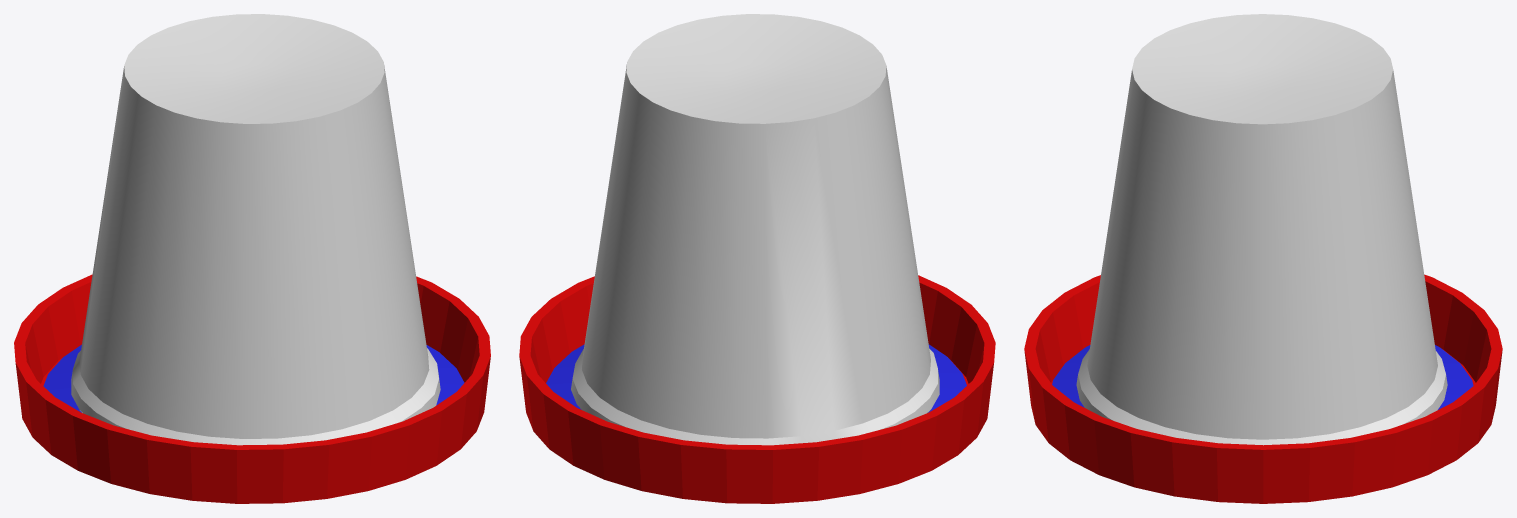
The model's file is Inuman.fbx.
3 views of the same model, side by side, from view 1: azimuth 30°, elevation 25°; view 2: azimuth 150°, elevation 25°; view 3: azimuth 270°, elevation 25° (orthographic).
Visible parts, largest first — view 1: Top, Base, Water; view 2: Top, Base, Water; view 3: Top, Base, Water.
Part boxes in pixels (left/top/right/bottom): Top: left=71, top=14, right=440, bottom=445; Base: left=14, top=274, right=490, bottom=503; Water: left=43, top=344, right=464, bottom=412; Top: left=571, top=14, right=939, bottom=445; Base: left=519, top=275, right=995, bottom=503; Water: left=546, top=344, right=966, bottom=412; Top: left=1076, top=14, right=1447, bottom=445; Base: left=1024, top=274, right=1502, bottom=503; Water: left=1052, top=345, right=1473, bottom=409.
Size of the model in its own units: 303 by 236 by 303.
